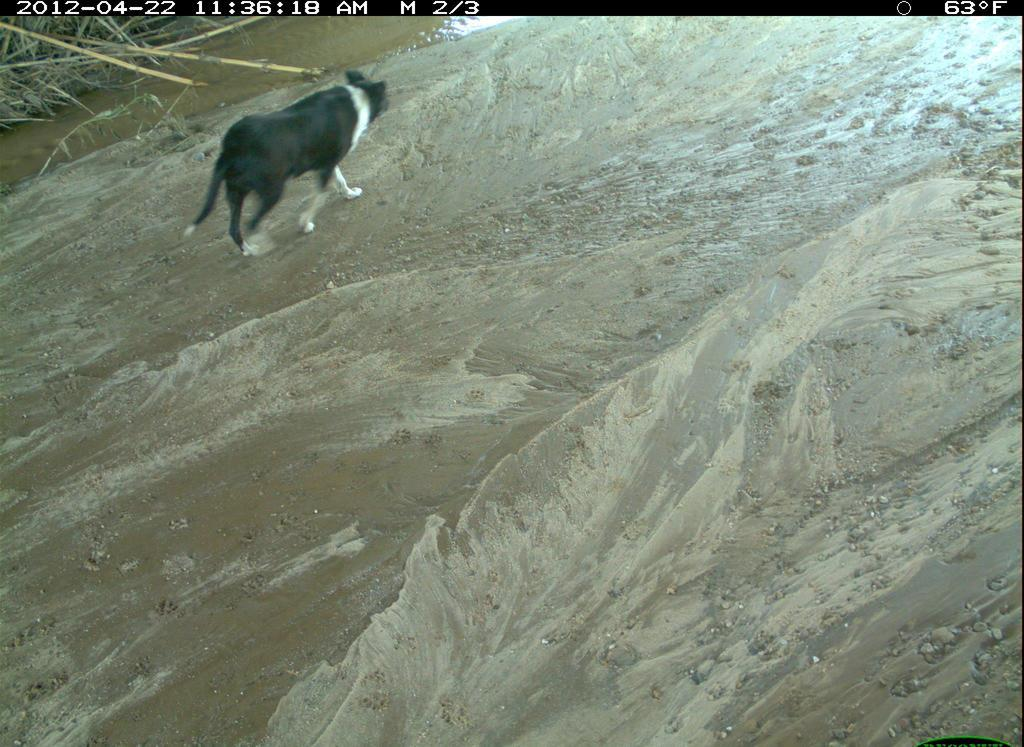dog: (351, 131, 789, 529)
